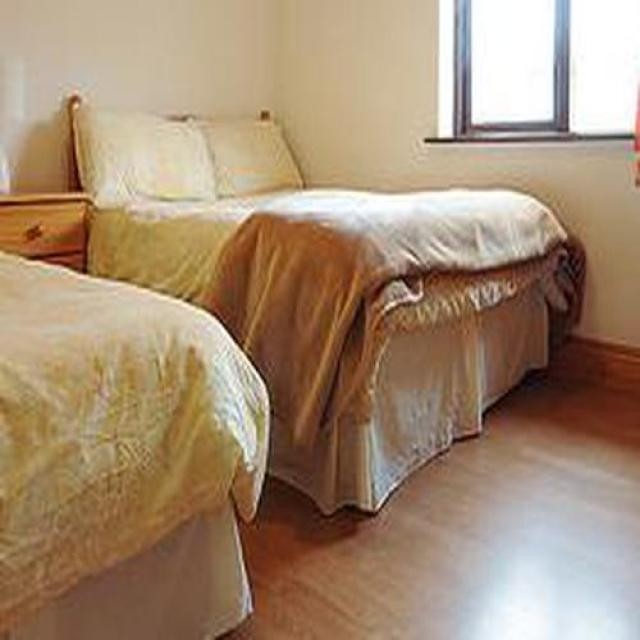bed: (72, 99, 588, 521)
